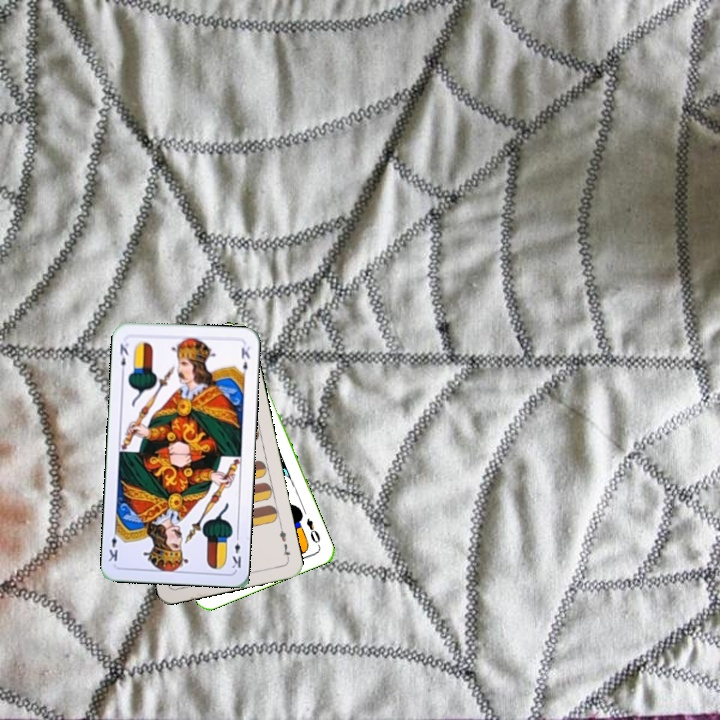E7: (275, 522, 293, 562)
EK: (228, 530, 244, 571), (116, 339, 132, 377)
EO: (302, 514, 323, 549)
